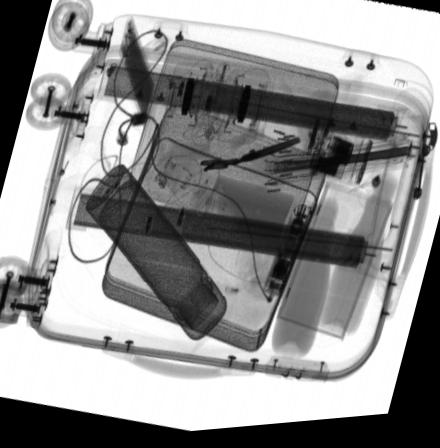Powerbank: (116, 15, 156, 127)
Scissors: (197, 138, 304, 180)
